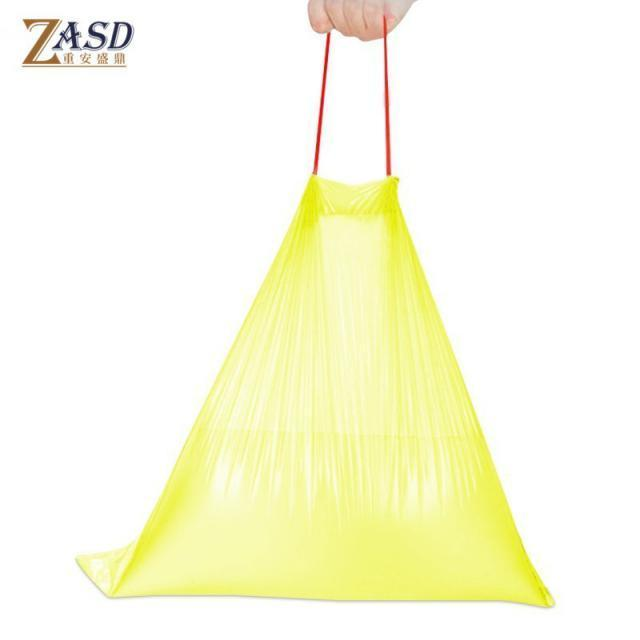waste: (100, 170, 554, 610)
